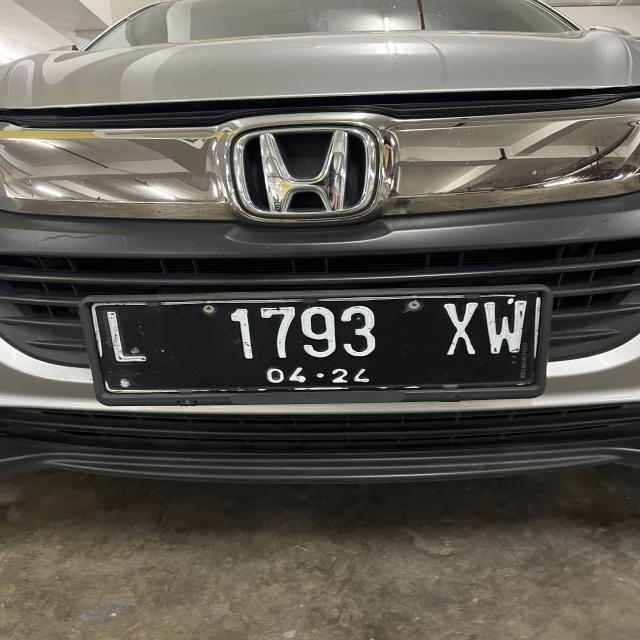1: (222, 304, 258, 362)
3: (343, 305, 379, 360)
7: (258, 304, 300, 364)
9: (302, 304, 342, 358)
L: (99, 309, 159, 366)
W: (482, 298, 527, 358)
X: (438, 298, 479, 356)
